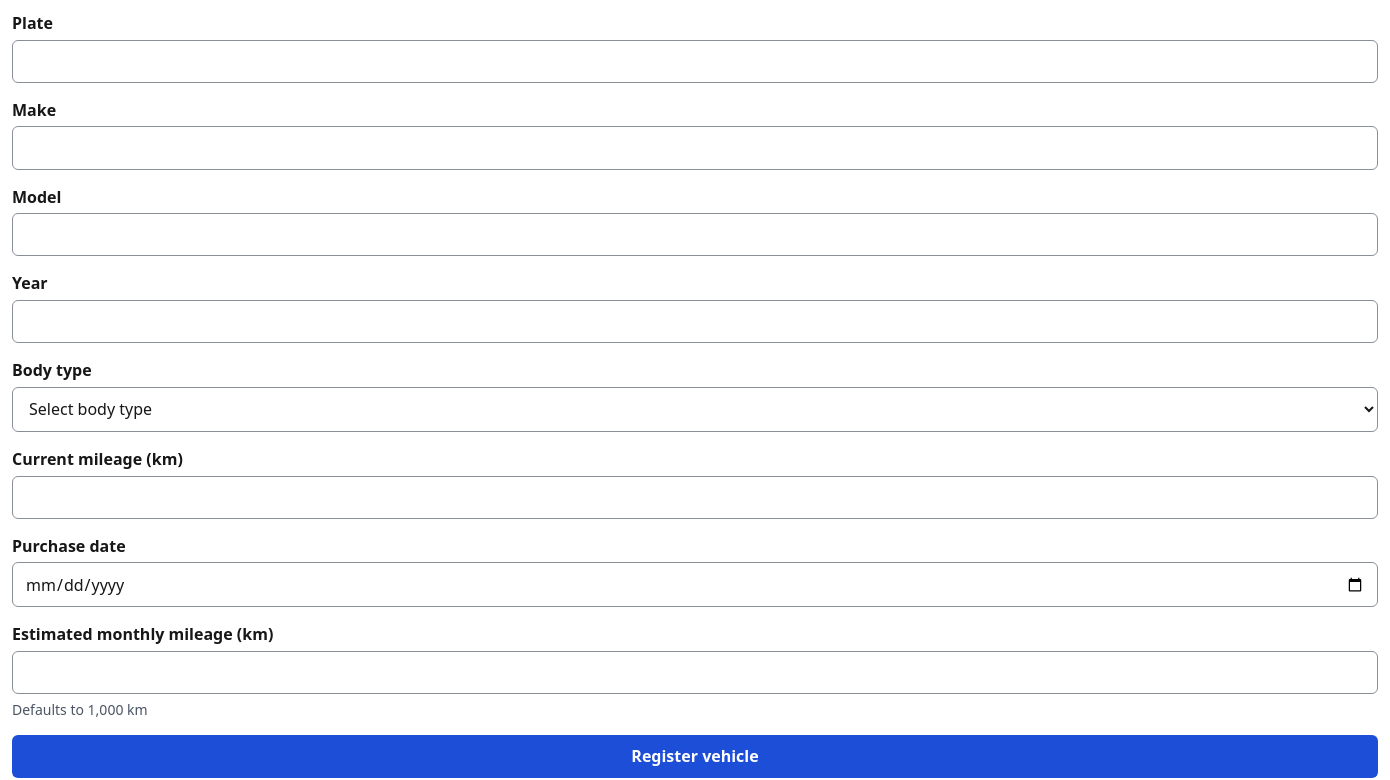
VehicleForm › registration › shows a general failure above the form and keeps what was typed
Type "abc-123" into the field labelled "Plate" at (695, 61), box [12,40,1378,83]
Type "Toyota" into the field labelled "Make" at (695, 148), box [12,126,1378,170]
Type "Corolla" into the field labelled "Model" at (695, 235), box [12,213,1378,256]
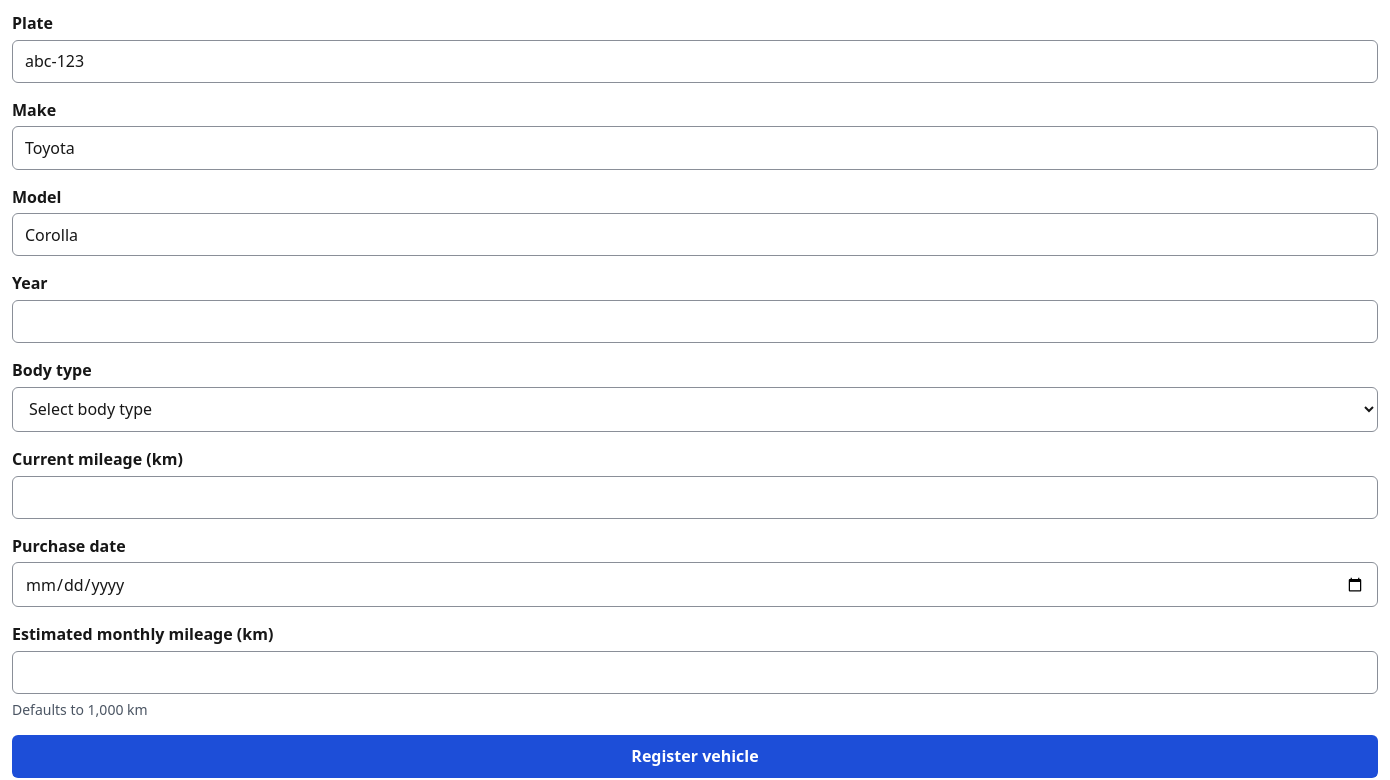
Type "2020" into the field labelled "Year" at (695, 322), box [12,300,1378,343]
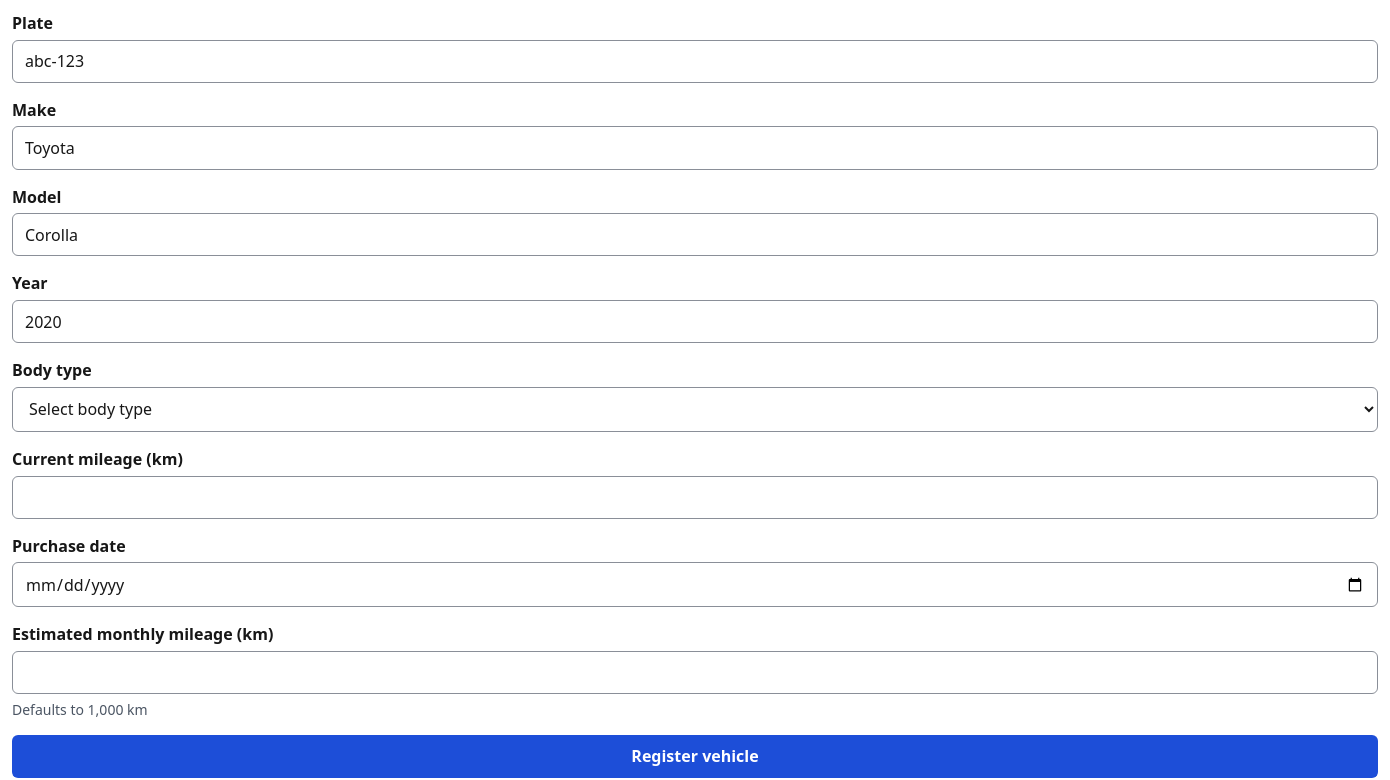
Select "Sedan" in the dropdown labelled "Body type" at (695, 409), box [12,387,1378,432]
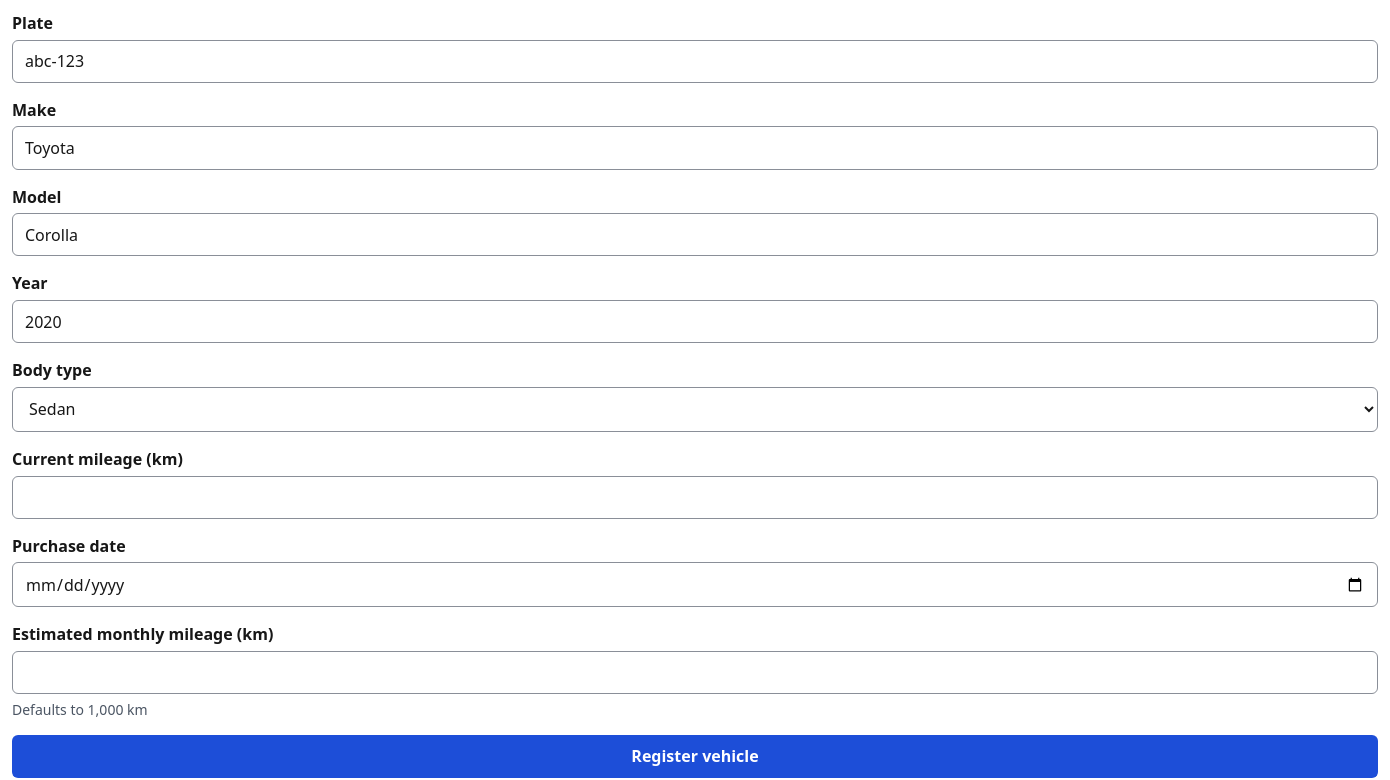
Type "45000" into the field labelled "Current mileage (km)" at (695, 497), box [12,476,1378,519]
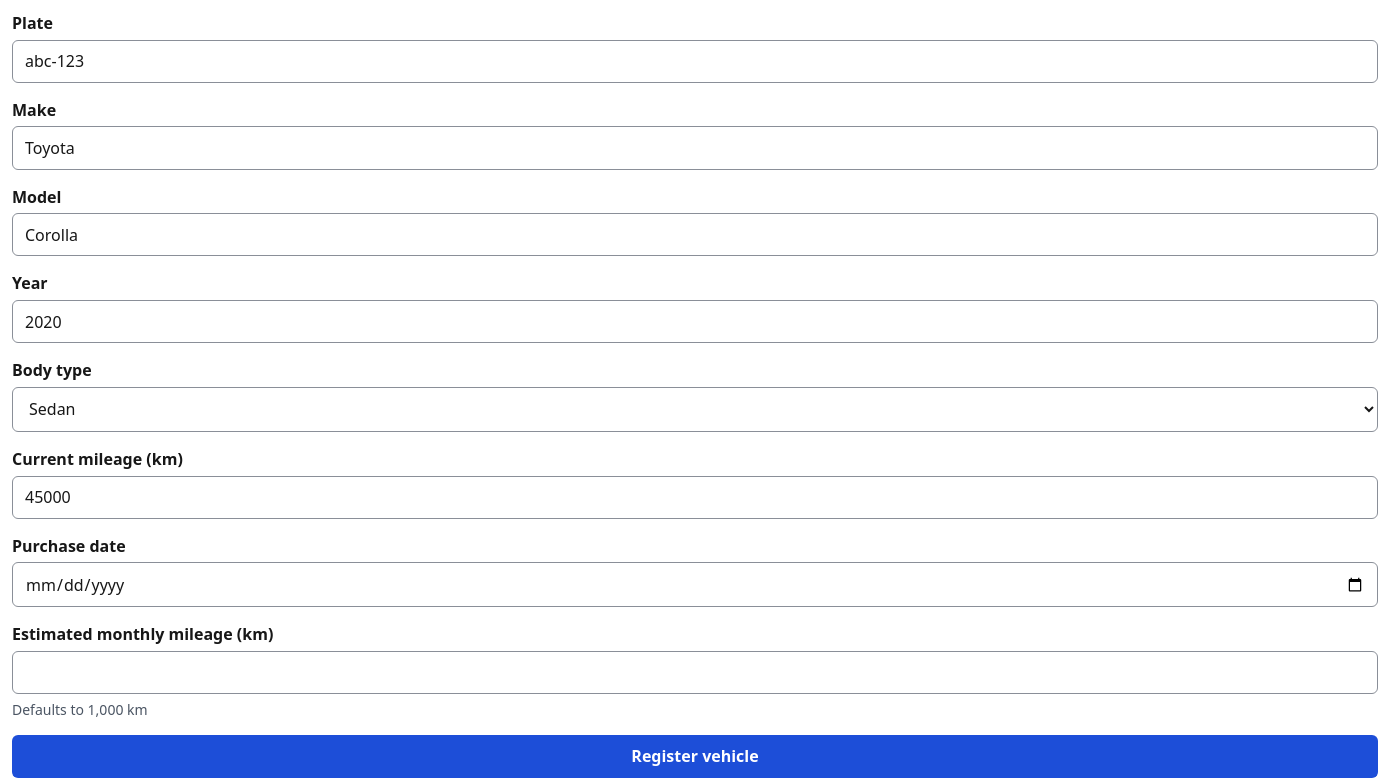
Type "2020-03-01" into the date field labelled "Purchase date" at (695, 585), box [12,562,1378,608]
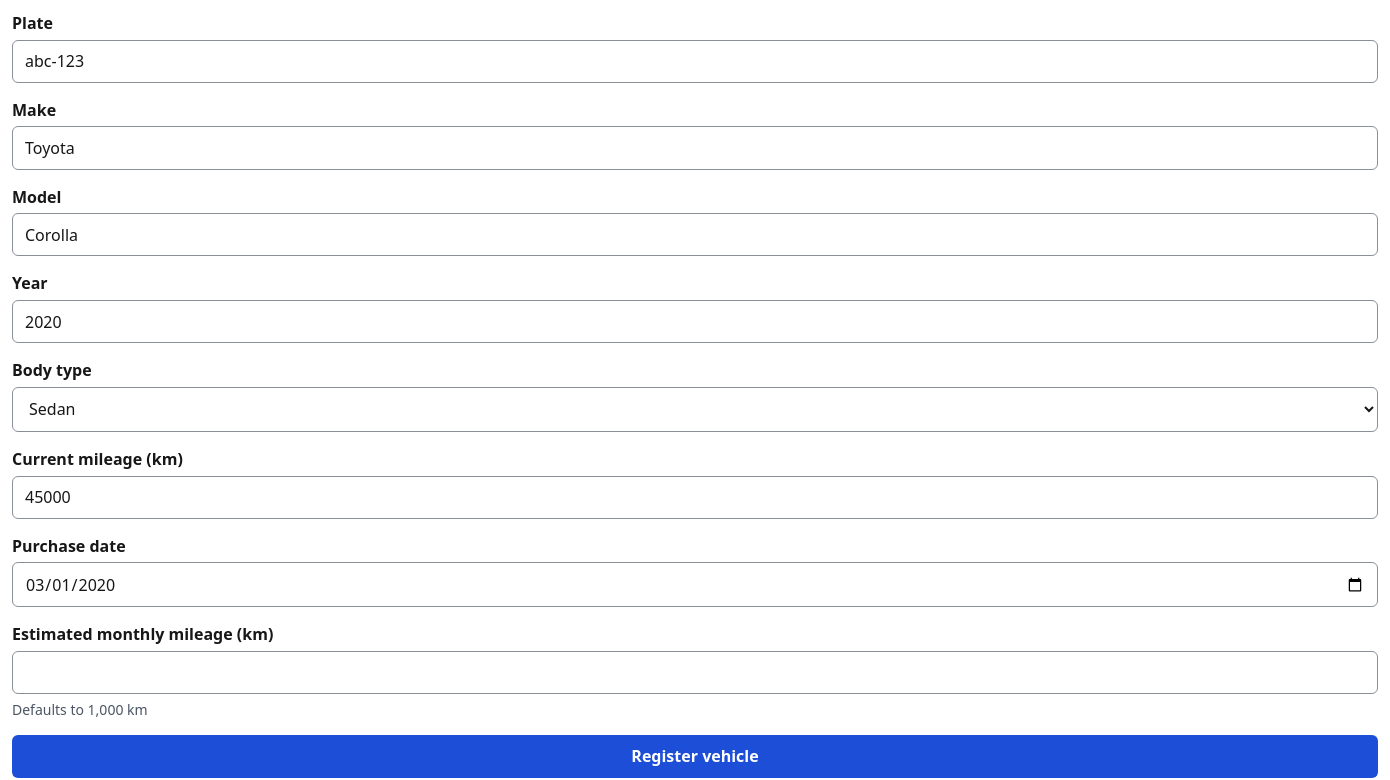
Click the button "Register vehicle" at (695, 756), box [12,735,1378,778]
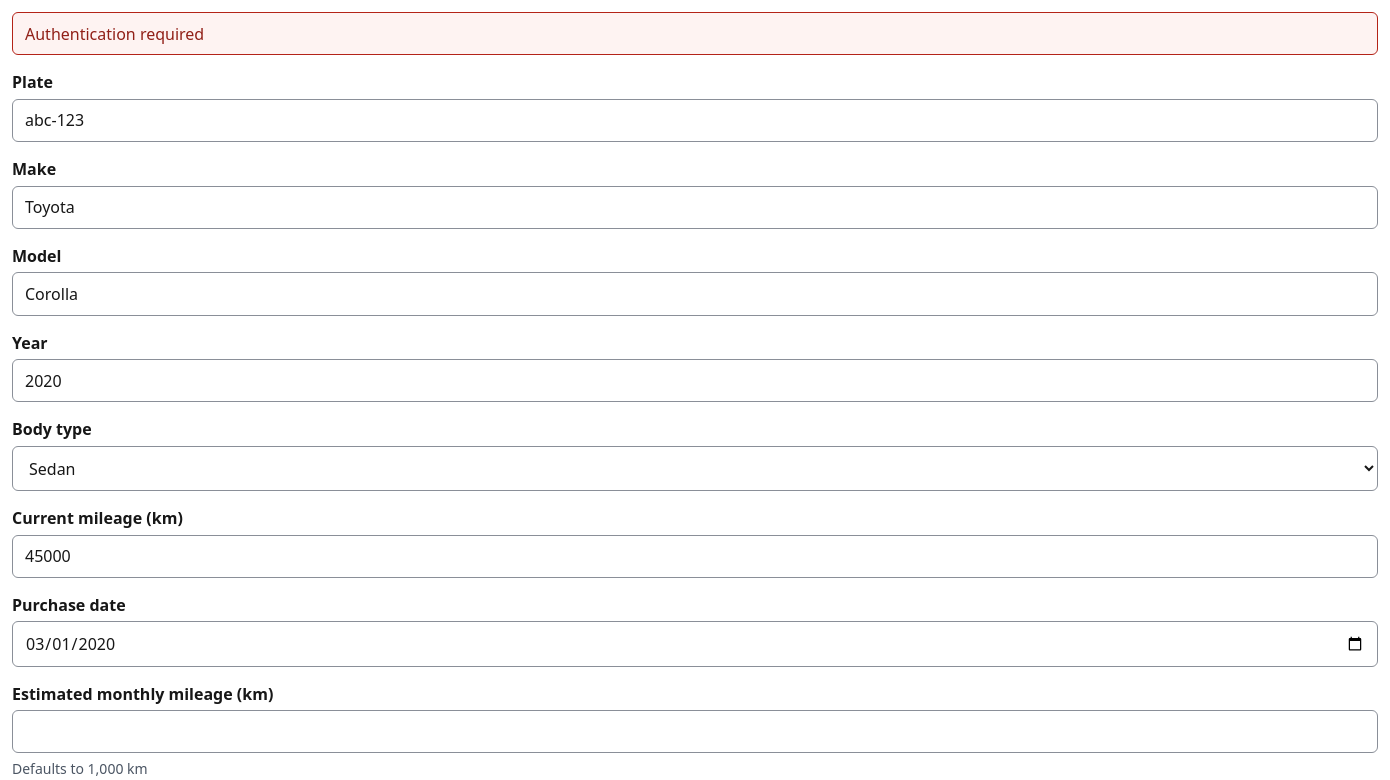
Now the message reads "Authentication required", box [25,23,204,45]
